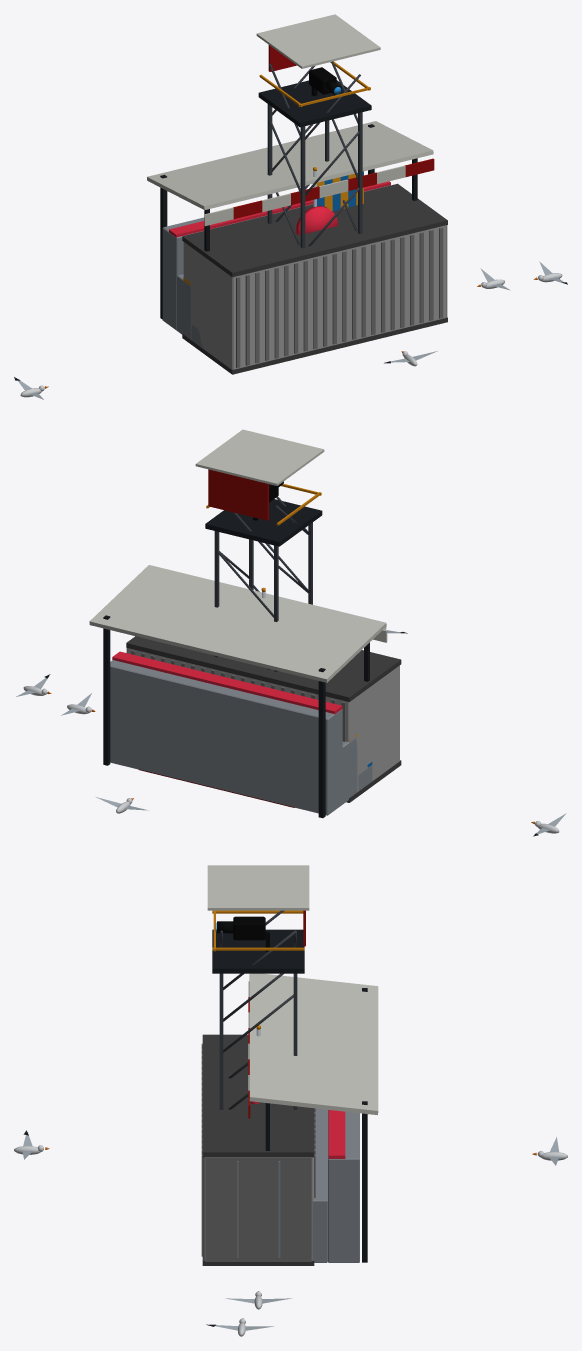
File: kart_detail_props.glb
3 views of the same model, one above another, from view 1: azimuth 30°, elevation 25°; view 2: azimuth 150°, elevation 25°; view 3: azimuth 270°, elevation 25° (orthographic). The views are drawn at different scales.
Visible parts, largest first — view 1: container, grandstand, camera_tower, gull_flock, flag_pole, lollipop; view 2: grandstand, camera_tower, container, gull_flock; view 3: grandstand, container, camera_tower, gull_flock.
Boxes of the visible parts, <box> form: container: <box>182,183,447,374</box>; grandstand: <box>147,121,434,348</box>; camera_tower: <box>256,14,380,248</box>; gull_flock: <box>14,261,567,399</box>; flag_pole: <box>313,167,363,211</box>; lollipop: <box>295,205,337,235</box>; grandstand: <box>89,565,387,818</box>; camera_tower: <box>195,429,324,671</box>; container: <box>126,636,401,802</box>; gull_flock: <box>16,627,566,836</box>; grandstand: <box>248,973,378,1262</box>; container: <box>201,1034,315,1265</box>; camera_tower: <box>207,865,309,1109</box>; gull_flock: <box>14,1130,567,1336</box>.
Bounding box in the file's own units: 14.79 × 8 × 12.
